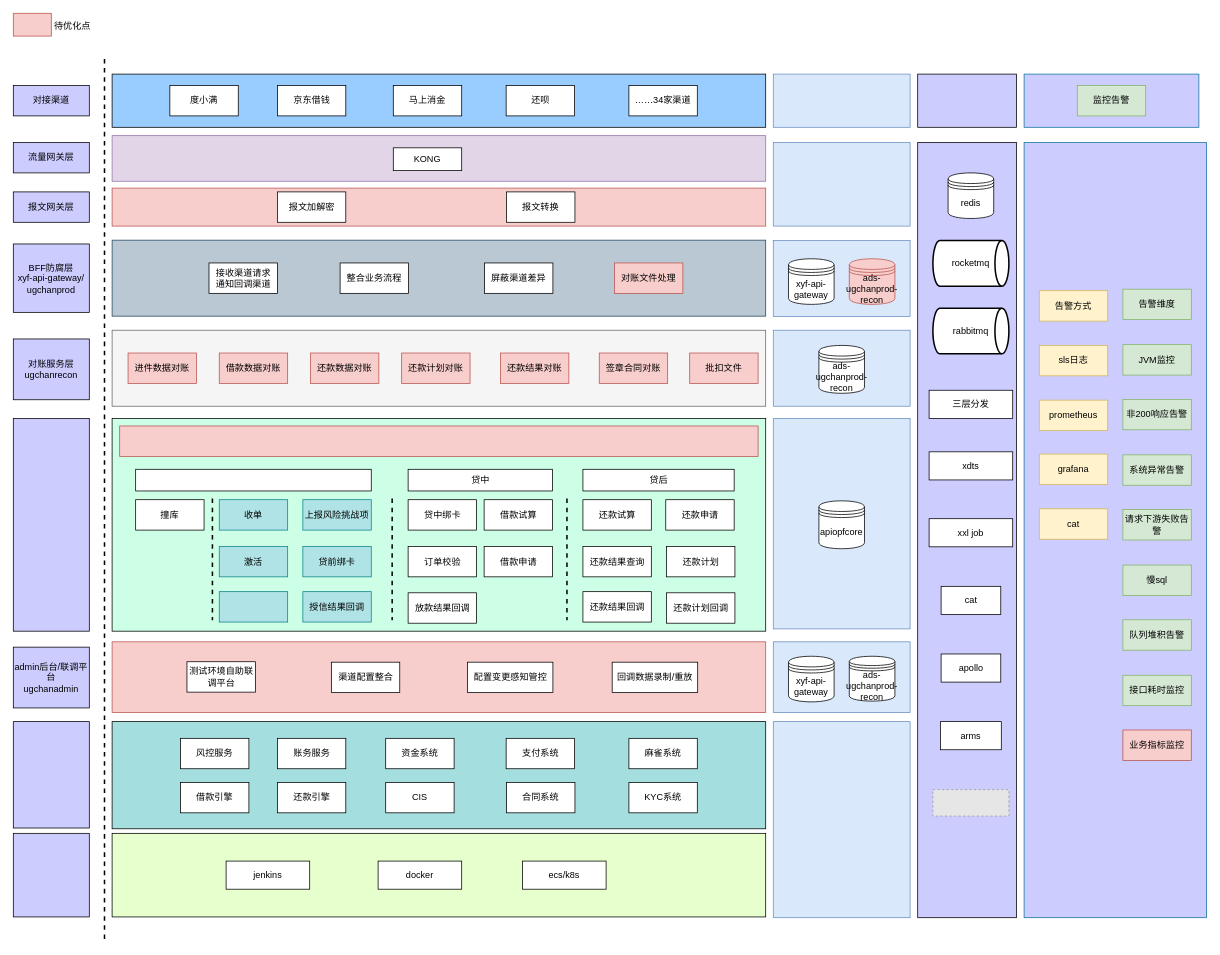
The diagram is 1220 pixels wide and 955 high, and some of its shapes have lost their labels. Grey dashed boxes stand in for pictures. The shapes that lost their labels are listed below. From the top down, each one's centre as x and y in pixels, then its label:
At [841,100]: "存储层".
At [966,100]: "中间件".
At [438,440]: "熔断 限流 降级".
At [253,480]: "贷前".
At [51,524]: "业务核心域 apiopfcore".
At [253,606]: "用户数据认证".
At [51,774]: "依赖核心服务".
At [51,875]: "devops".
